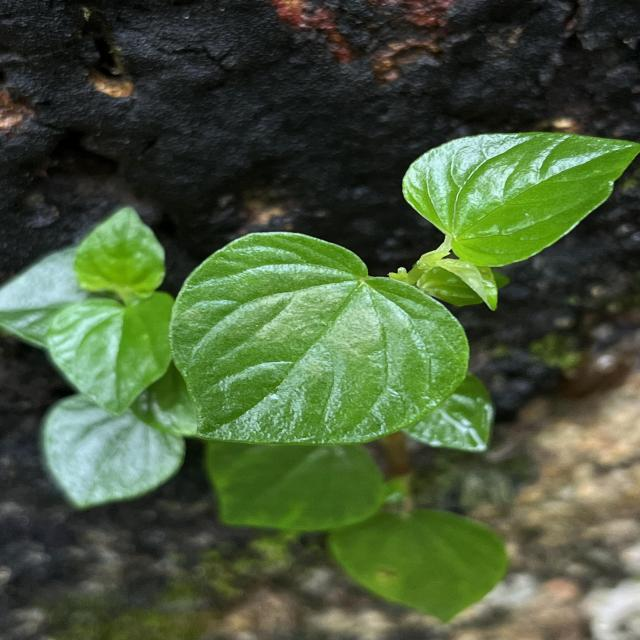Peperomia pellucida: (166, 228, 474, 449), (399, 132, 640, 270)
